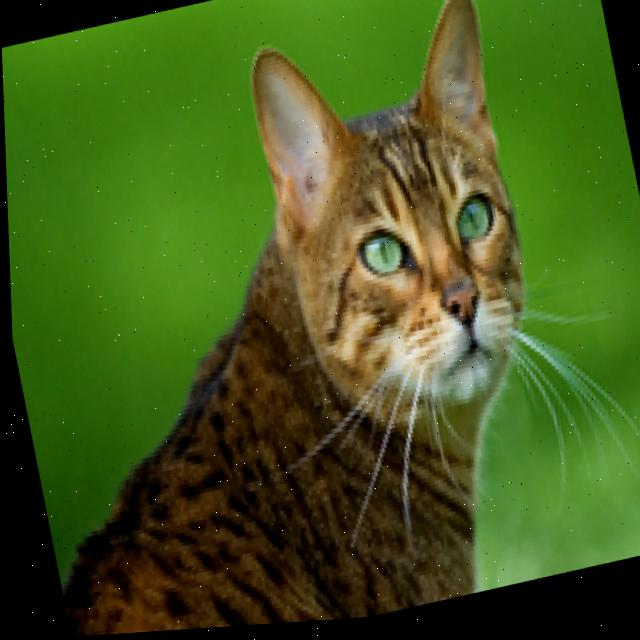Bengal: (0, 0, 592, 640)
